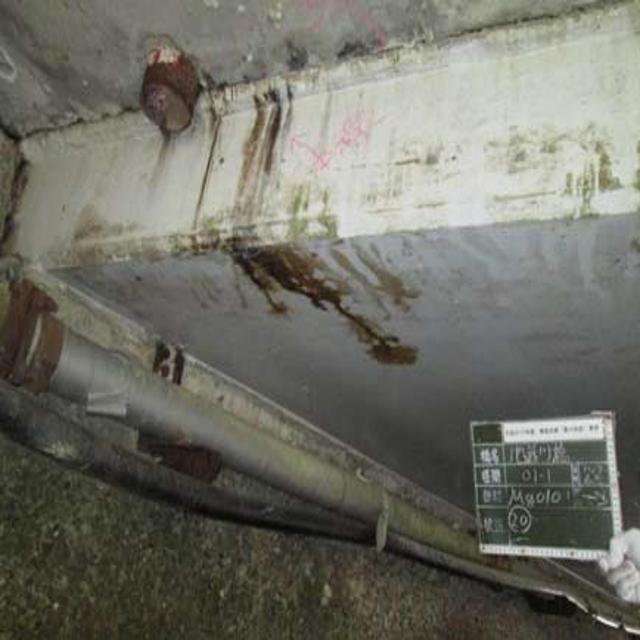corrosion: (129, 407, 250, 509), (120, 31, 219, 150), (0, 278, 69, 413)
leakage: (234, 83, 436, 367)
